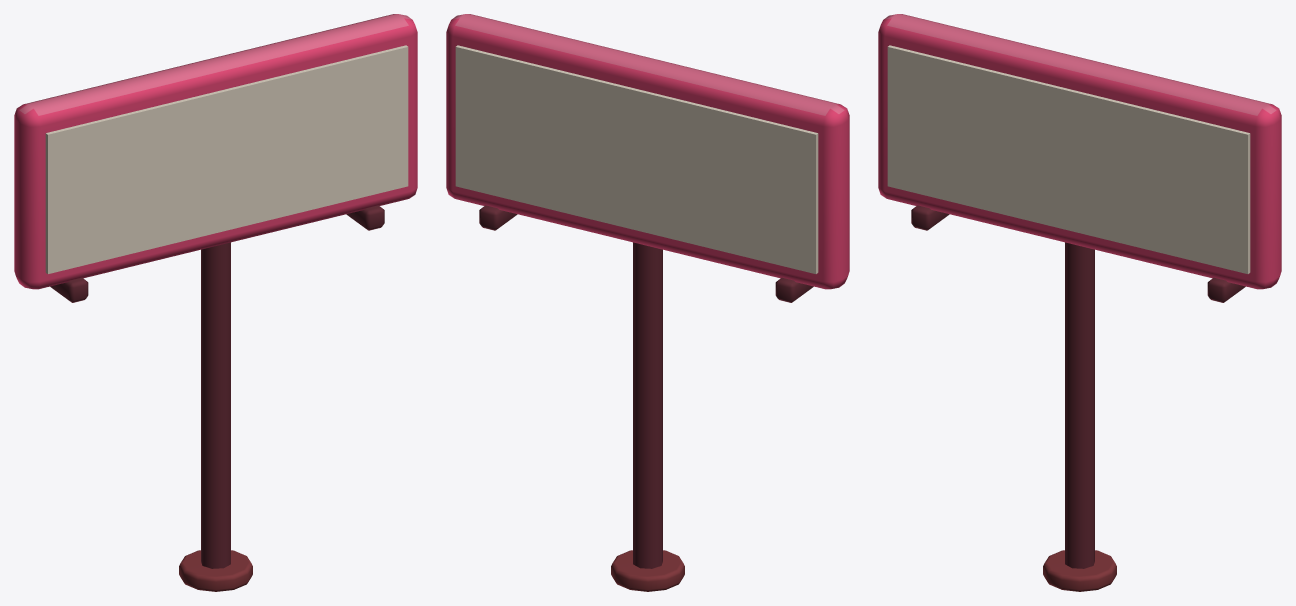
File: citrus-sign.glb
3 views of the same model, side by side, from view 1: azimuth 30°, elevation 25°; view 2: azimuth 150°, elevation 25°; view 3: azimuth 330°, elevation 25° (orthographic).
Parts seen in each view (by area): view 1: citrus-sign; view 2: citrus-sign; view 3: citrus-sign.
Part boxes in pixels (bbox=[...]): citrus-sign: bbox=[14, 14, 417, 591]; citrus-sign: bbox=[446, 14, 849, 591]; citrus-sign: bbox=[878, 14, 1281, 591].
Bounding box in the file's own units: 1.6 × 2 × 0.26.
